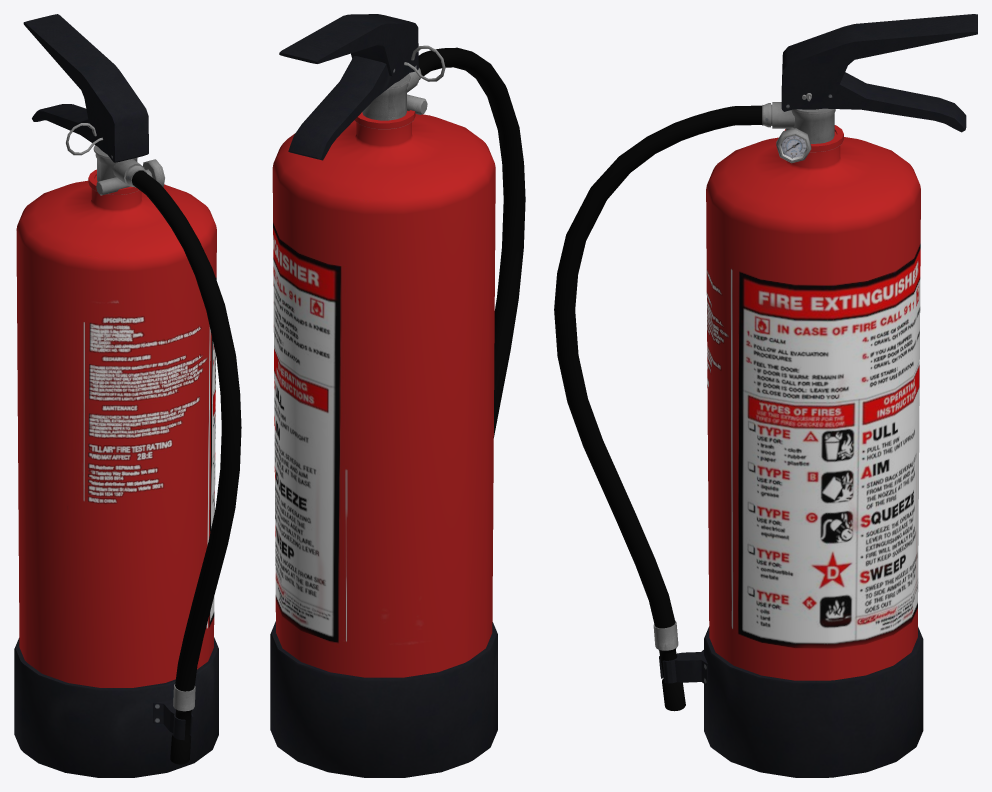
File: fire_ex.fbx
3 views of the same model, side by side, from view 1: azimuth 30°, elevation 25°; view 2: azimuth 150°, elevation 25°; view 3: azimuth 270°, elevation 25° (orthographic). The views are drawn at different scales.
Parts seen in each view (by area): view 1: Cylinder002; view 2: Cylinder002; view 3: Cylinder002.
Part boxes in pixels (bbox=[...]): Cylinder002: bbox=[14, 14, 241, 777]; Cylinder002: bbox=[270, 14, 525, 777]; Cylinder002: bbox=[554, 14, 977, 777].
Bounding box in the file's own units: 1.08 × 0.5509 × 2.
Materials: 1 (1 with a texture image).
